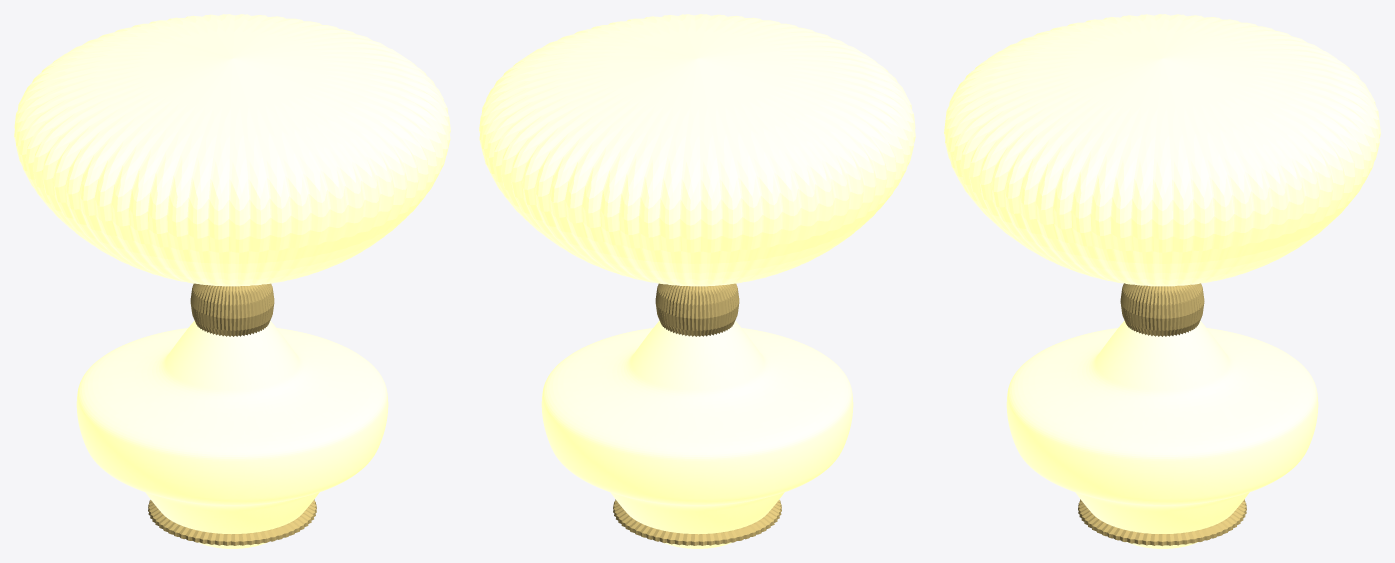
3 views of the same model, side by side, from view 1: azimuth 30°, elevation 25°; view 2: azimuth 150°, elevation 25°; view 3: azimuth 270°, elevation 25° (orthographic).
Size of the model in its own units: 2.46 by 2.94 by 2.46.
